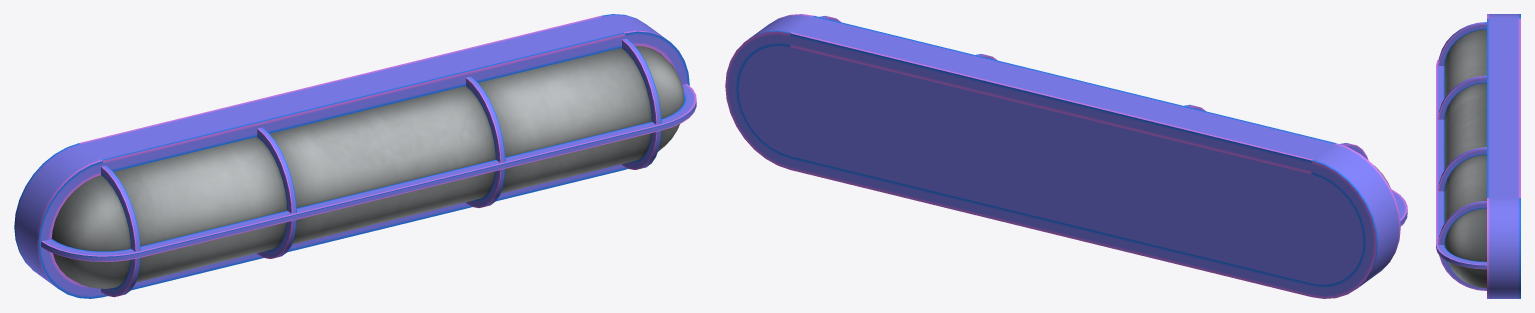
The model's file is mr009light002s001.fbx.
3 renders of one model, left to right at view 1: azimuth 30°, elevation 25°; view 2: azimuth 150°, elevation 25°; view 3: azimuth 270°, elevation 25°, orthographic. The views are drawn at different scales.
Visible parts, largest first — view 1: mr009light002s001op001; view 2: mr009light002s001op001; view 3: mr009light002s001op001.
Boxes of the visible parts, <box> form: mr009light002s001op001: <box>14,14,696,298</box>; mr009light002s001op001: <box>725,14,1407,298</box>; mr009light002s001op001: <box>1436,14,1520,298</box>.
Bounding box in the file's own units: 62.41 × 12.5 × 10.
